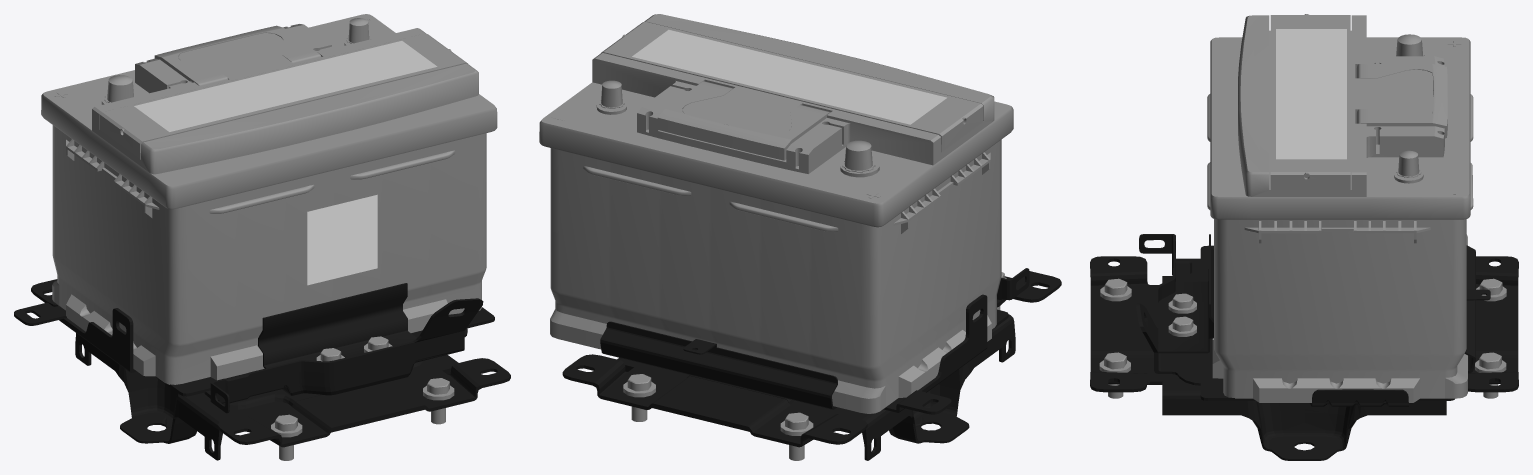
File: E5_19_蓄电池.FBX
3 views of the same model, side by side, from view 1: azimuth 30°, elevation 25°; view 2: azimuth 150°, elevation 25°; view 3: azimuth 270°, elevation 25° (orthographic). The views are drawn at different scales.
Visible parts, largest first — view 1: che_XDC_KT, che_XDC_ZJ_03, che_XDC_KT_BS, che_XDC_ZJ_04, che_XDC_ZJ_10_DDLJLS, che_XDC_ZJ_01; view 2: che_XDC_KT, che_XDC_ZJ_03, che_XDC_KT_BS, che_XDC_ZJ_10_DDLJLS; view 3: che_XDC_KT, che_XDC_ZJ_03, che_XDC_KT_BS, che_XDC_ZJ_10_DDLJLS, che_XDC_ZJ_04, che_XDC_ZJ_01.
Boxes of the visible parts, x1,y1,x2,y2 form: che_XDC_KT: [41, 14, 497, 384]; che_XDC_ZJ_03: [14, 279, 510, 460]; che_XDC_KT_BS: [134, 41, 437, 131]; che_XDC_ZJ_04: [258, 283, 416, 368]; che_XDC_ZJ_10_DDLJLS: [271, 336, 454, 460]; che_XDC_ZJ_01: [155, 307, 494, 396]; che_XDC_KT: [539, 14, 1013, 413]; che_XDC_ZJ_03: [562, 268, 1061, 460]; che_XDC_KT_BS: [632, 29, 946, 124]; che_XDC_ZJ_10_DDLJLS: [623, 272, 1006, 460]; che_XDC_KT: [1207, 14, 1473, 402]; che_XDC_ZJ_03: [1090, 234, 1518, 460]; che_XDC_KT_BS: [1276, 29, 1346, 159]; che_XDC_ZJ_10_DDLJLS: [1099, 278, 1506, 398]; che_XDC_ZJ_04: [1158, 234, 1213, 353]; che_XDC_ZJ_01: [1200, 245, 1454, 400].
Size of the model in its own units: 22.87 by 22.58 by 17.83.
